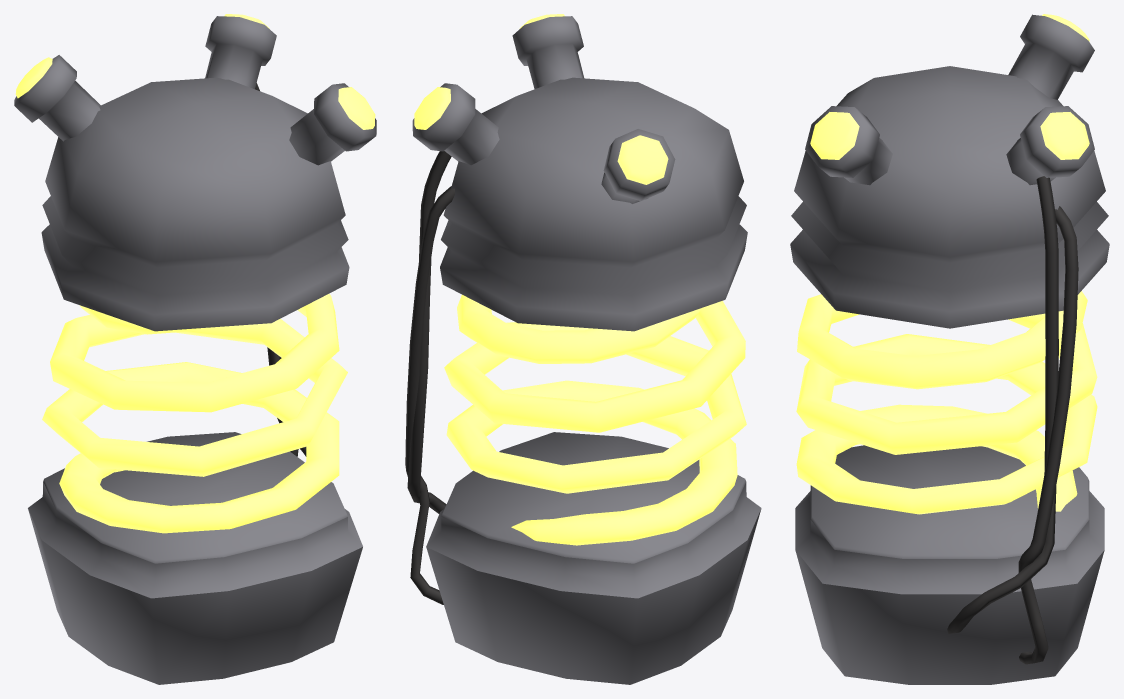
The model's file is calor.fbx.
The picture shows the model from 3 angles, left to right: view 1: azimuth 30°, elevation 25°; view 2: azimuth 150°, elevation 25°; view 3: azimuth 270°, elevation 25°; orthographic projection. The views are drawn at different scales.
Visible parts, largest first — view 1: Calor; view 2: Calor; view 3: Calor.
Part boxes in pixels (x1,y1,x2,y2): Calor: [14, 14, 376, 684]; Calor: [405, 14, 761, 684]; Calor: [790, 14, 1109, 684].
Bounding box in the file's own units: 12.12 × 22.36 × 11.36.
